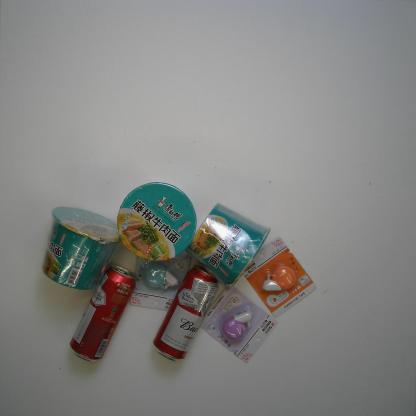Alcohol: (68, 264, 138, 364), (151, 264, 220, 363)
Instant Noodles: (185, 202, 272, 292), (40, 206, 121, 292), (116, 181, 197, 263)
Stationery: (199, 285, 279, 364), (242, 236, 318, 318), (128, 254, 192, 313)
